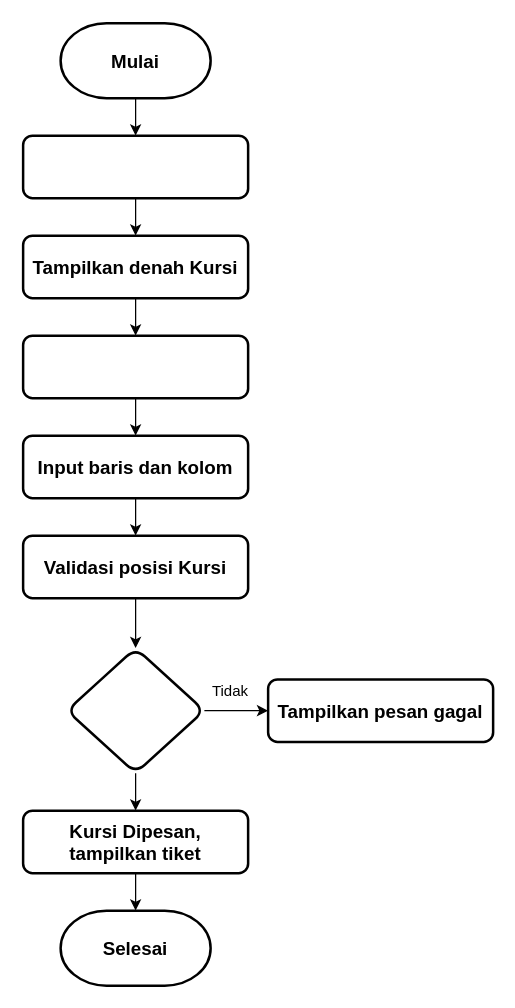
Some shapes in this 515 by 1008 pixel diagram are drawn without their labels. Here are the shapes that lost their labels. From the top down, the box of each, then its label:
(21, 134, 249, 199): Inisialisasi denah dan harga zona
(21, 334, 249, 399): Input Nama Pembeli
(65, 646, 205, 774): Jika Kosong
